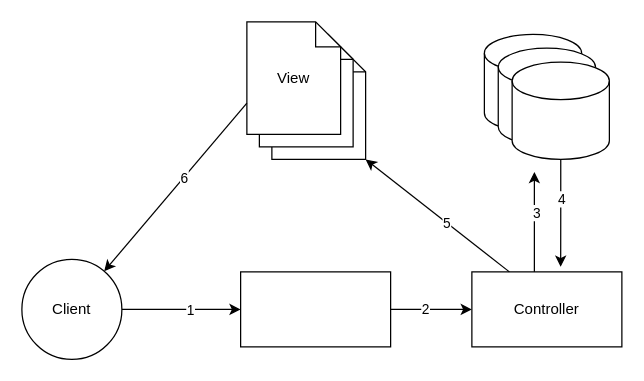
The diagram is 644 pixels wide and 381 high, and some of its shapes have lost their labels. The centre of each missing label's shape, as x and y in pixels:
Dispatcher: (x=315, y=309)
Model: (x=560, y=110)
